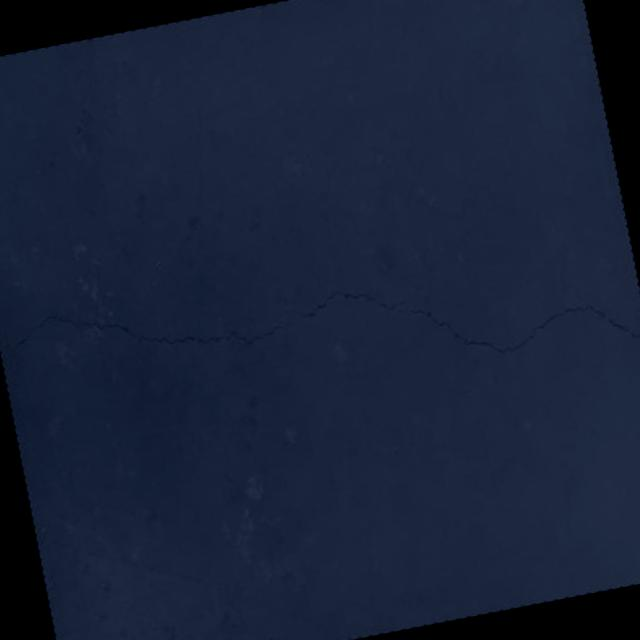crack: (0, 269, 298, 392), (395, 262, 640, 383), (281, 278, 410, 332)
